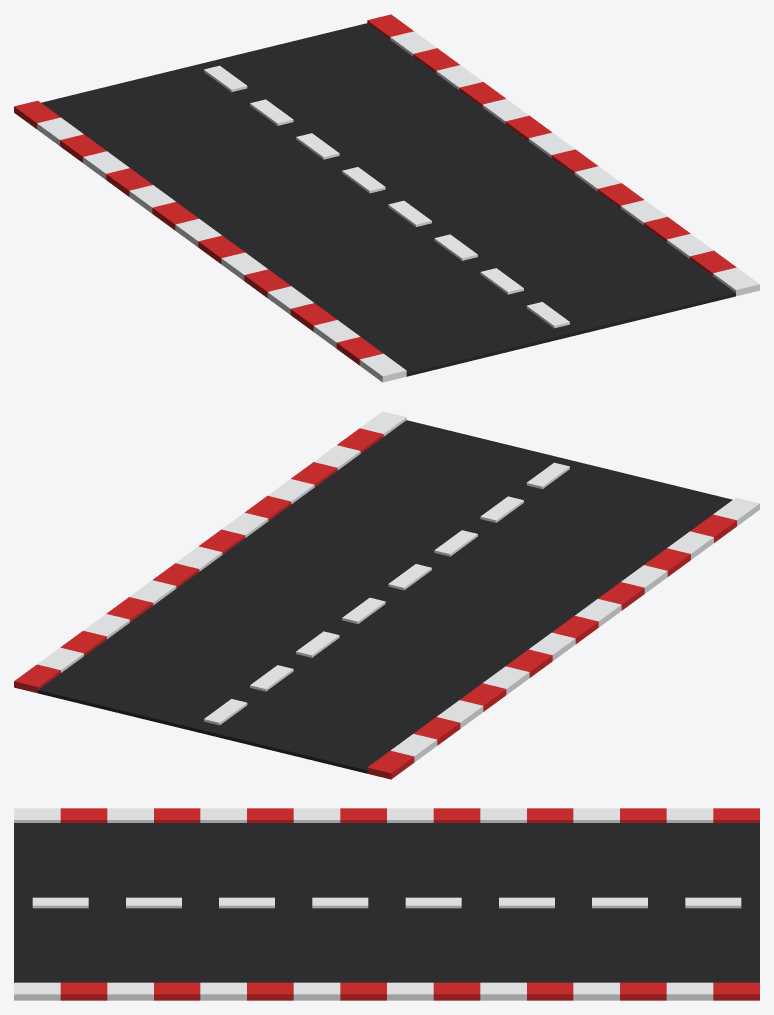
File: jalan.glb
The picture shows the model from 3 angles, top to bottom: view 1: azimuth 30°, elevation 25°; view 2: azimuth 150°, elevation 25°; view 3: azimuth 270°, elevation 25°; orthographic projection.
Parts seen in each view (by area): view 1: RoadTrack; view 2: RoadTrack; view 3: RoadTrack.
Part boxes in pixels (left/top/right/bottom): RoadTrack: left=14, top=14, right=759, bottom=382; RoadTrack: left=14, top=411, right=759, bottom=779; RoadTrack: left=14, top=808, right=759, bottom=1000.
Bounding box in the file's own units: 1.89 × 0.03 × 3.2.
